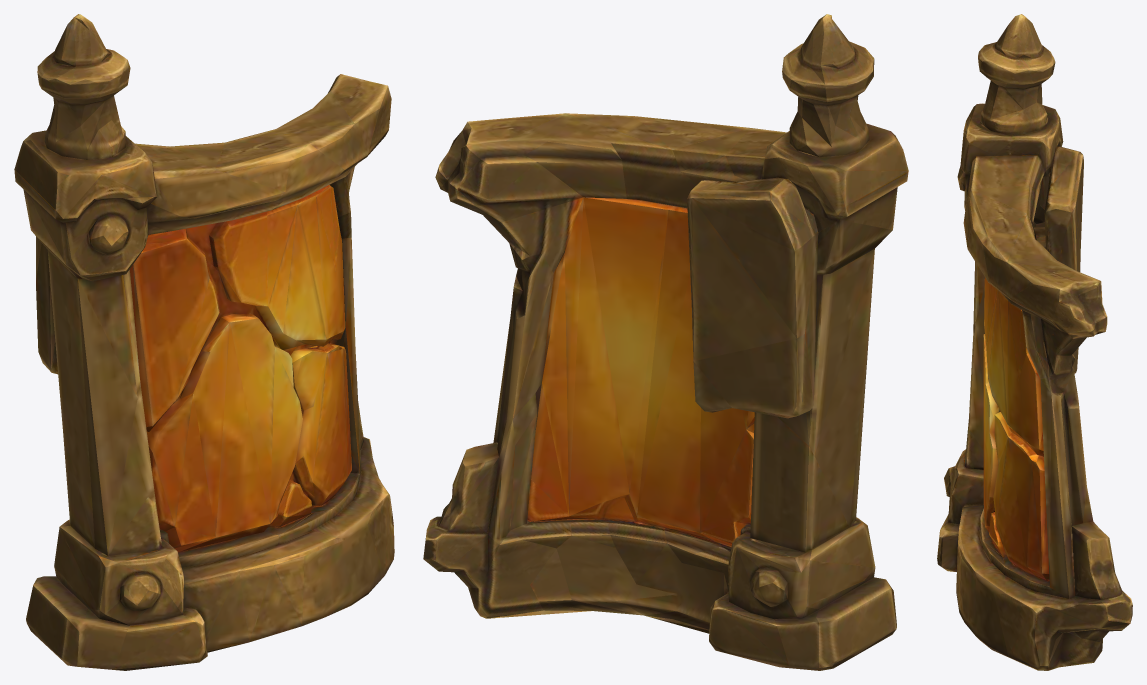
Rendered from lantern-shard.glb.
The picture shows the model from 3 angles, left to right: view 1: azimuth 30°, elevation 25°; view 2: azimuth 150°, elevation 25°; view 3: azimuth 270°, elevation 25°; orthographic projection. The views are drawn at different scales.
Parts seen in each view (by area): view 1: output_unwrapped; view 2: output_unwrapped; view 3: output_unwrapped.
Boxes of the visible parts, x1,y1,x2,y2 form: output_unwrapped: (14,14,394,670); output_unwrapped: (423,14,908,670); output_unwrapped: (937,14,1132,670).
Bounding box in the file's own units: 1.24 × 1.9 × 0.6377.
1 material, 1 textured.
